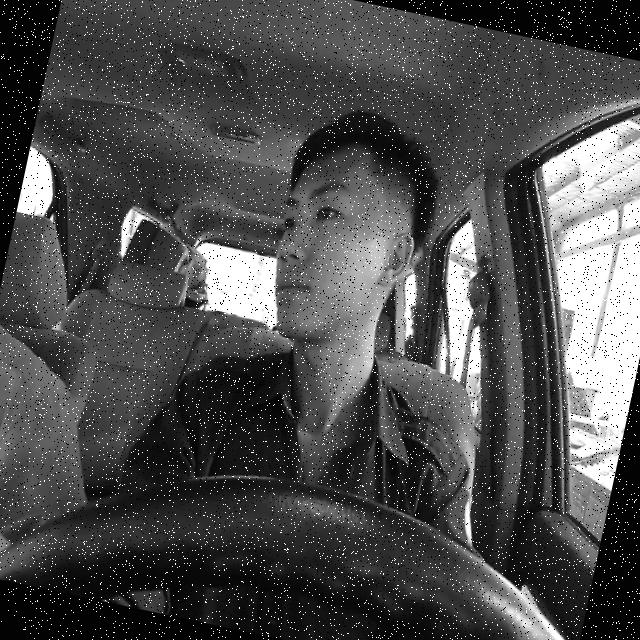seeing_left: (253, 130, 432, 360)
